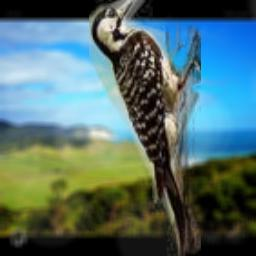Woodpecker: (89, 0, 201, 256)
